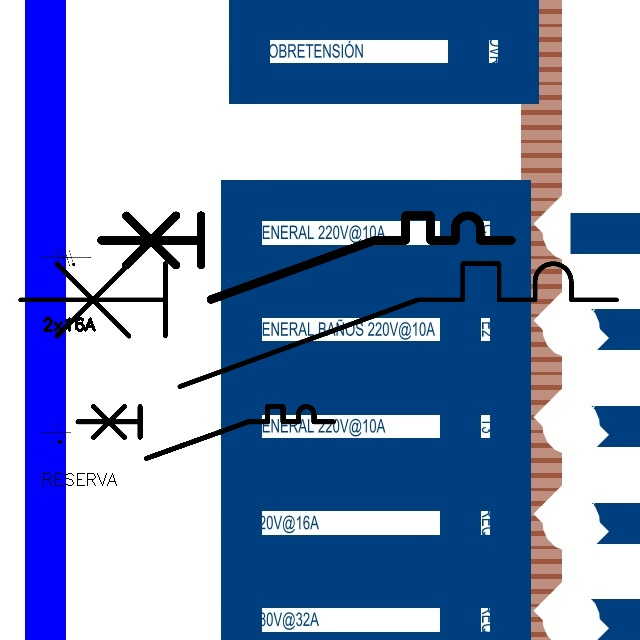interruptor_termomagnetico: (5, 248, 632, 401), (90, 205, 521, 310), (71, 400, 339, 465)
